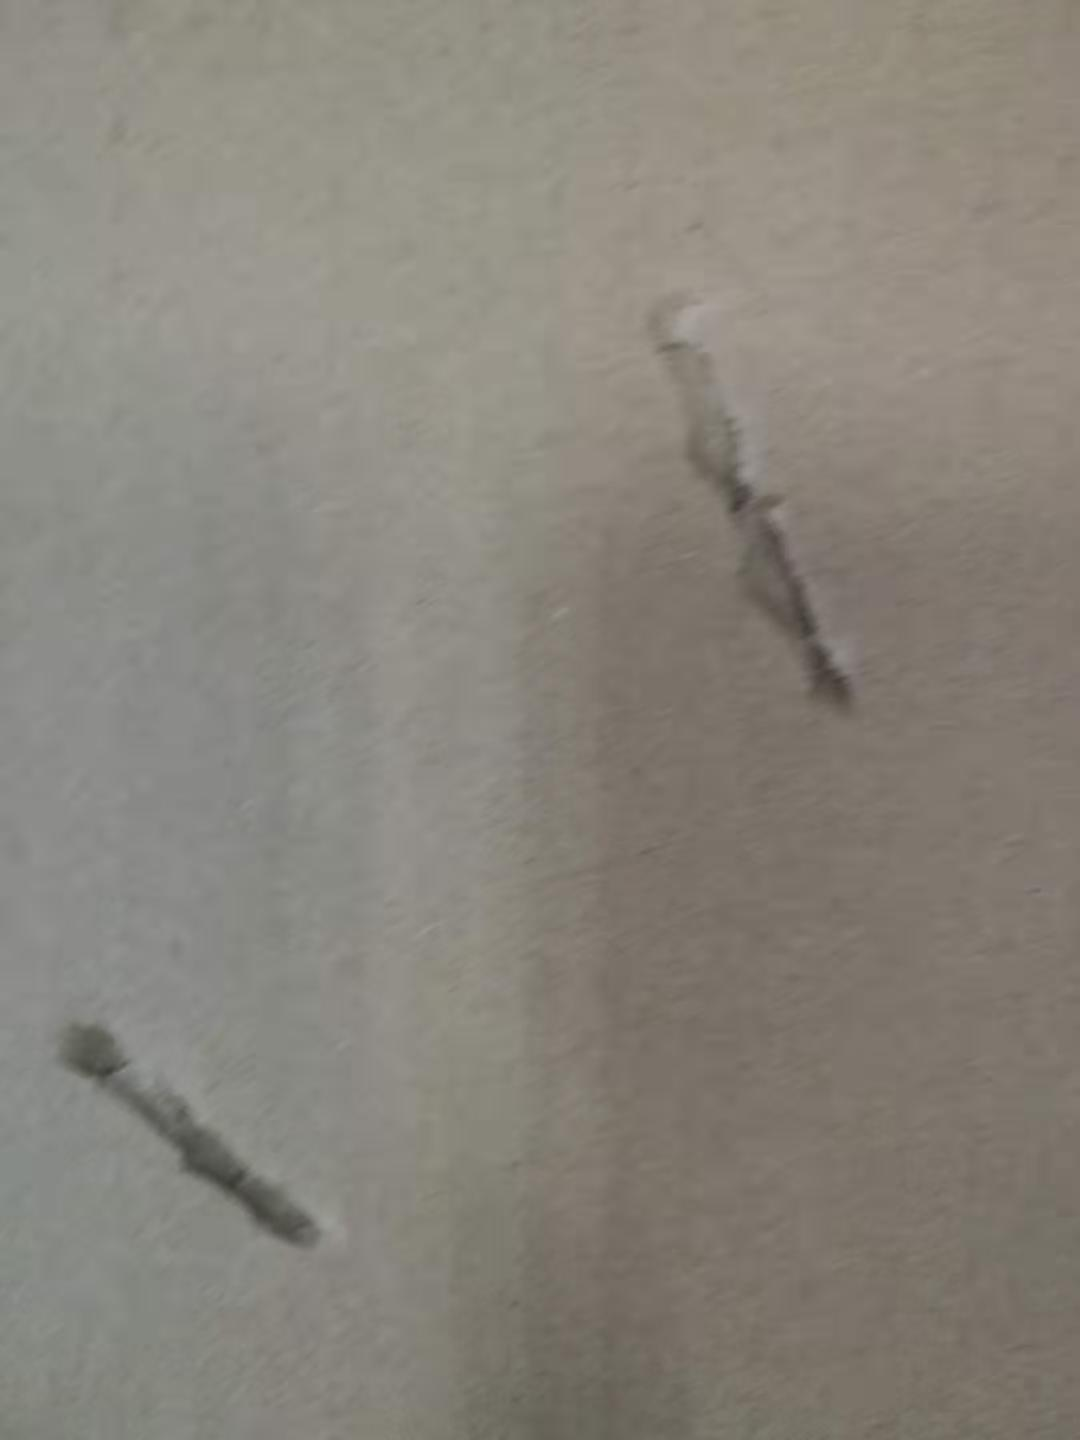defect: (606, 259, 902, 755), (34, 985, 365, 1279)
